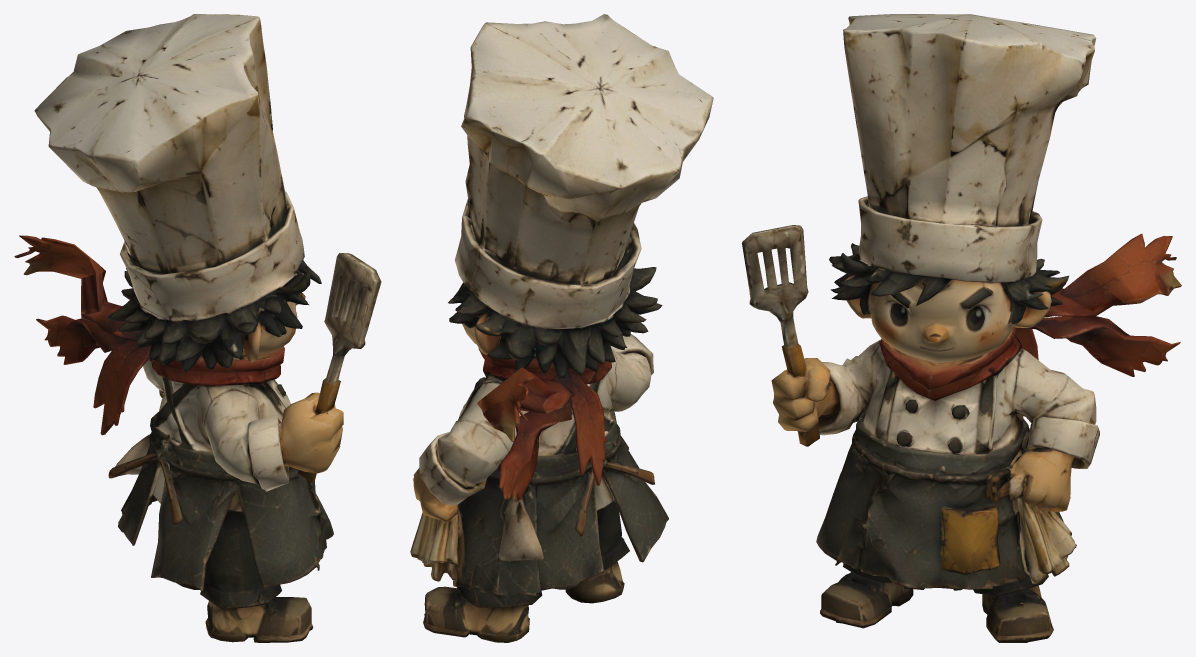
3 renders of one model, left to right at view 1: azimuth 30°, elevation 25°; view 2: azimuth 150°, elevation 25°; view 3: azimuth 270°, elevation 25°, orthographic. The views are drawn at different scales.
Visible parts, largest first — view 1: tripo_node_30664aaf-4855-4b28-8b50-ec473d382c47; view 2: tripo_node_30664aaf-4855-4b28-8b50-ec473d382c47; view 3: tripo_node_30664aaf-4855-4b28-8b50-ec473d382c47.
Part boxes in pixels (x1,y1,x2,y2): tripo_node_30664aaf-4855-4b28-8b50-ec473d382c47: (14, 14, 381, 642); tripo_node_30664aaf-4855-4b28-8b50-ec473d382c47: (410, 14, 713, 642); tripo_node_30664aaf-4855-4b28-8b50-ec473d382c47: (742, 14, 1181, 642).
Size of the model in its own units: 0.4658 by 0.998 by 0.6732.
1 material, 1 textured.
